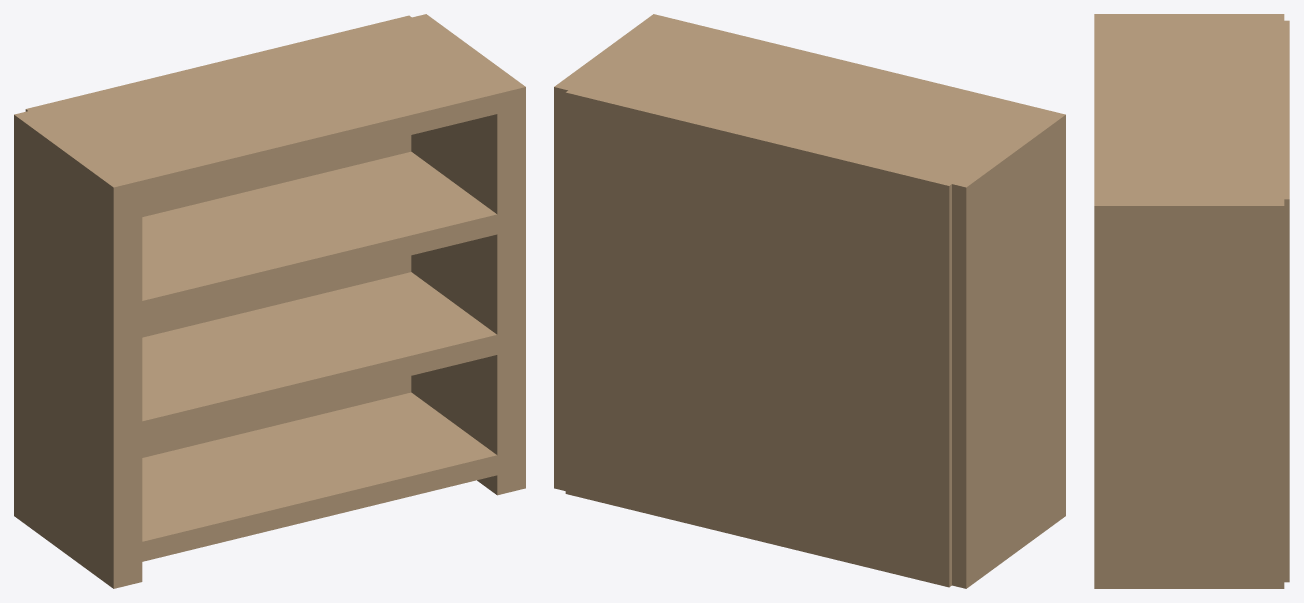
Rendered from voxel-city-districts-shop-shelf-5ef239c1__24877.glb.
The picture shows the model from 3 angles, left to right: view 1: azimuth 30°, elevation 25°; view 2: azimuth 150°, elevation 25°; view 3: azimuth 270°, elevation 25°; orthographic projection. The views are drawn at different scales.
Parts seen in each view (by area): view 1: shop-shelf-wood; view 2: shop-shelf-wood; view 3: shop-shelf-wood.
Boxes of the visible parts, x1=… form: shop-shelf-wood: x1=14, y1=14, x2=525, y2=588; shop-shelf-wood: x1=554, y1=14, x2=1065, y2=588; shop-shelf-wood: x1=1094, y1=14, x2=1289, y2=588.
Size of the model in its own units: 2.15 by 2 by 0.925.
